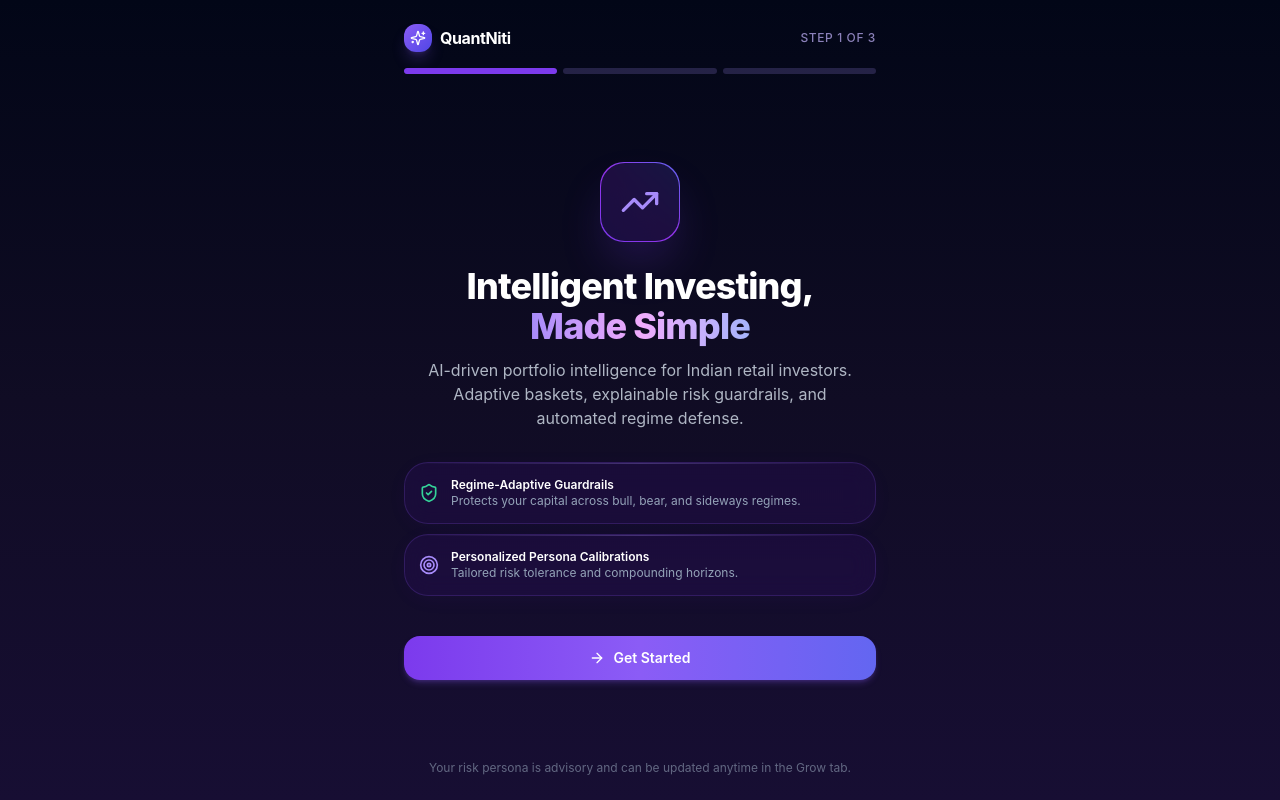
Test: OnboardingHero Component Seam › advances from Step 1 to Step 2 (Persona Quiz) when clicking 'Get Started'
The image size is (1280, 800).
Click the button "Get Started" at x=640, y=658, box top-left (404, 636), bottom-right (876, 680)
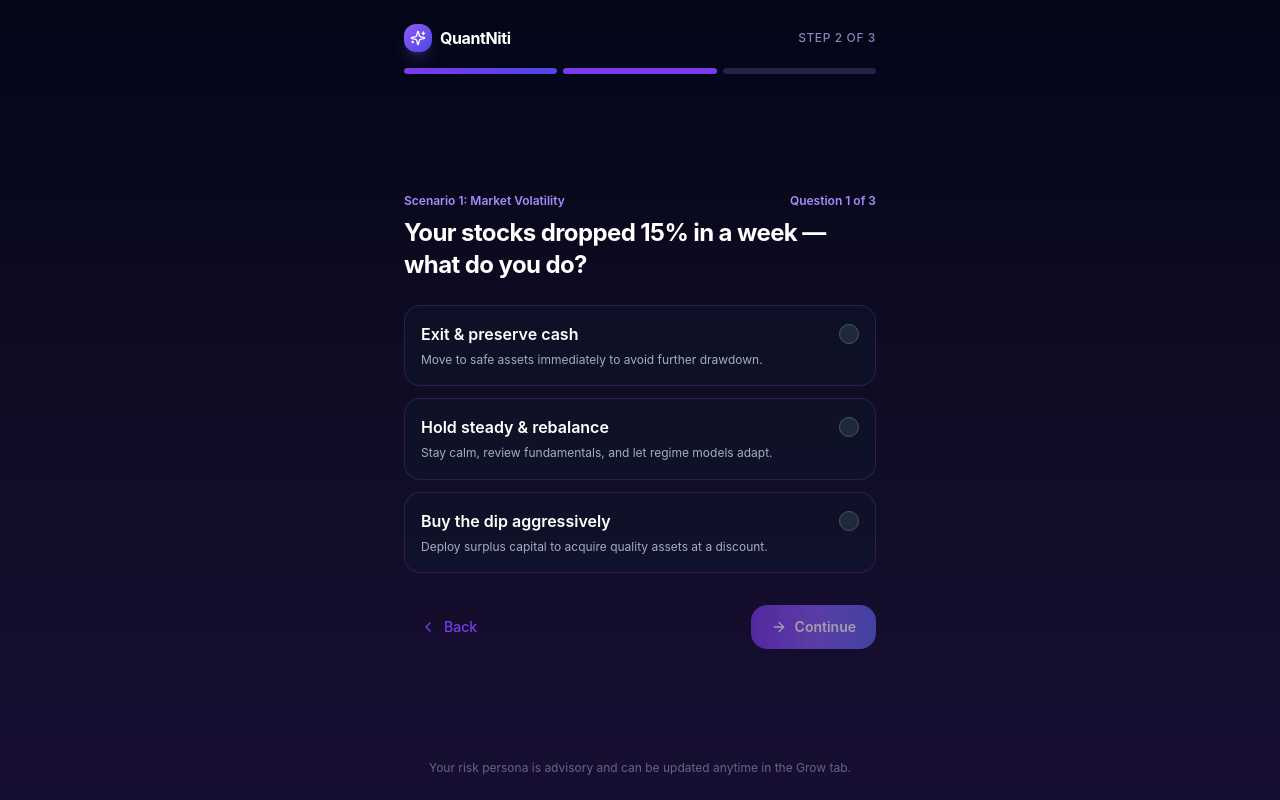
Result: the heading "Your stocks dropped 15% in a week — what do you do?" is shown at top-left (404, 217), bottom-right (876, 281)
Result: the text "Scenario 1: Market Volatility" is shown at top-left (404, 193), bottom-right (565, 209)
